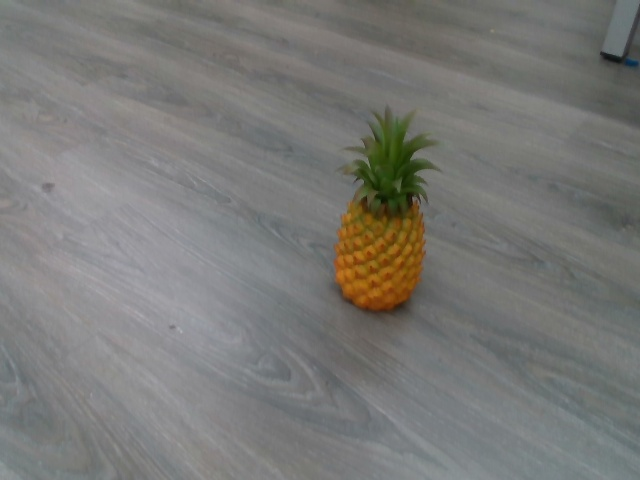pineapple: (330, 102, 445, 319)
